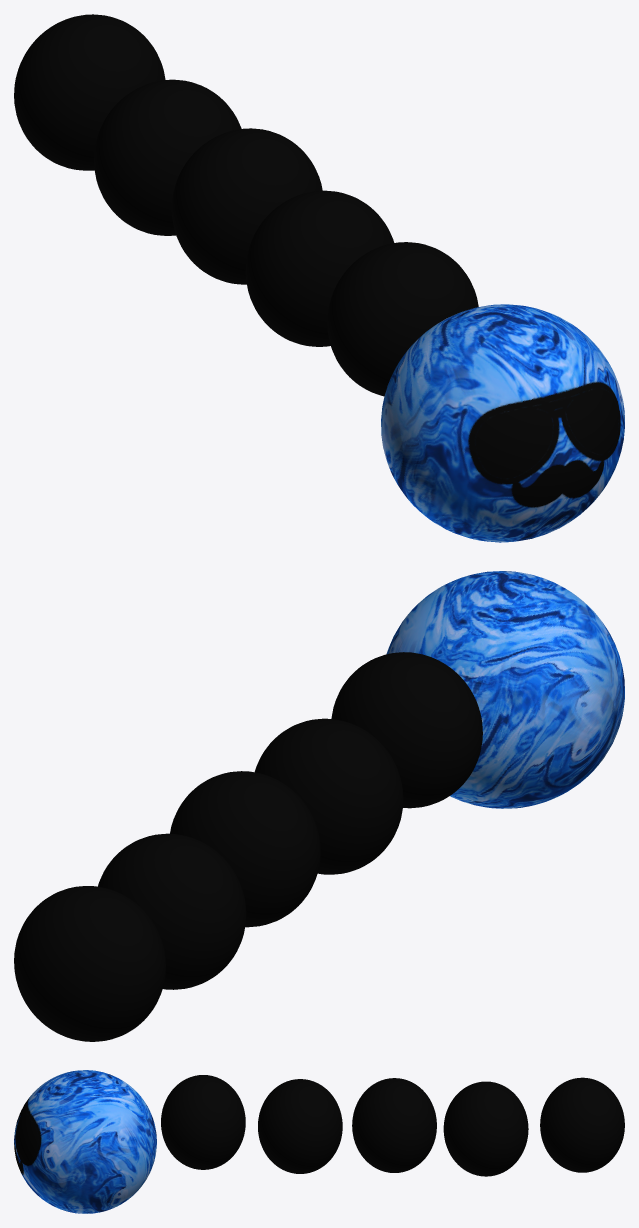
File: NewEpic.fbx
3 renders of one model, top to bottom at view 1: azimuth 30°, elevation 25°; view 2: azimuth 150°, elevation 25°; view 3: azimuth 270°, elevation 25°, orthographic. The views are drawn at different scales.
Visible parts, largest first — view 1: root (×6); view 2: root (×6); view 3: root (×6).
Boxes of the visible parts, x1,y1,x2,y2 form: root (×6): [14, 14, 624, 542]; root (×6): [14, 571, 624, 1041]; root (×6): [14, 1070, 624, 1213].
Size of the model in its own units: 0.1588 by 0.1534 by 0.6552.
Materials: 2 (2 with a texture image).
